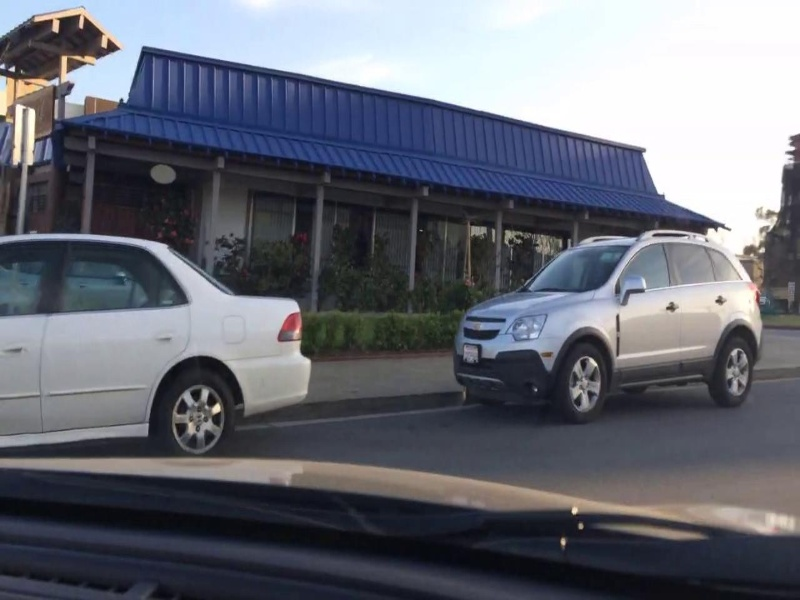car: (1, 230, 330, 470), (450, 223, 787, 422)
